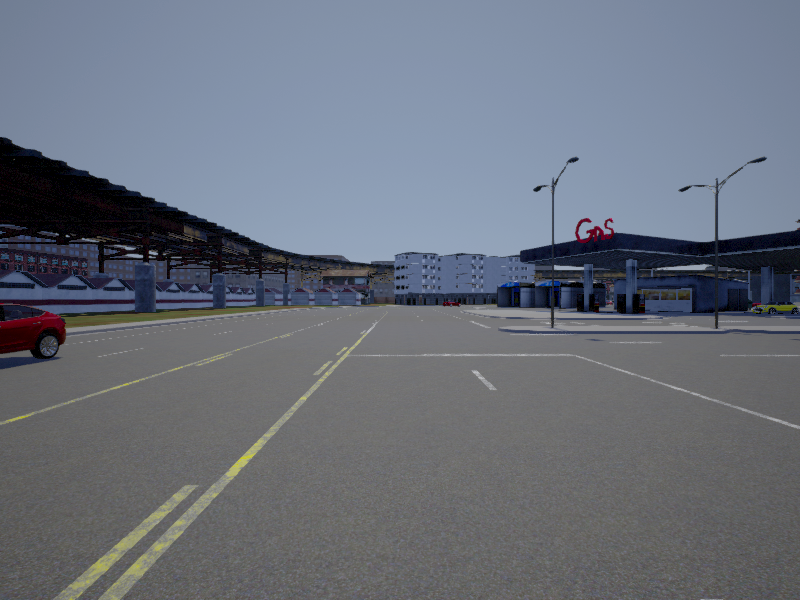Attacker: (1, 303, 67, 358)
